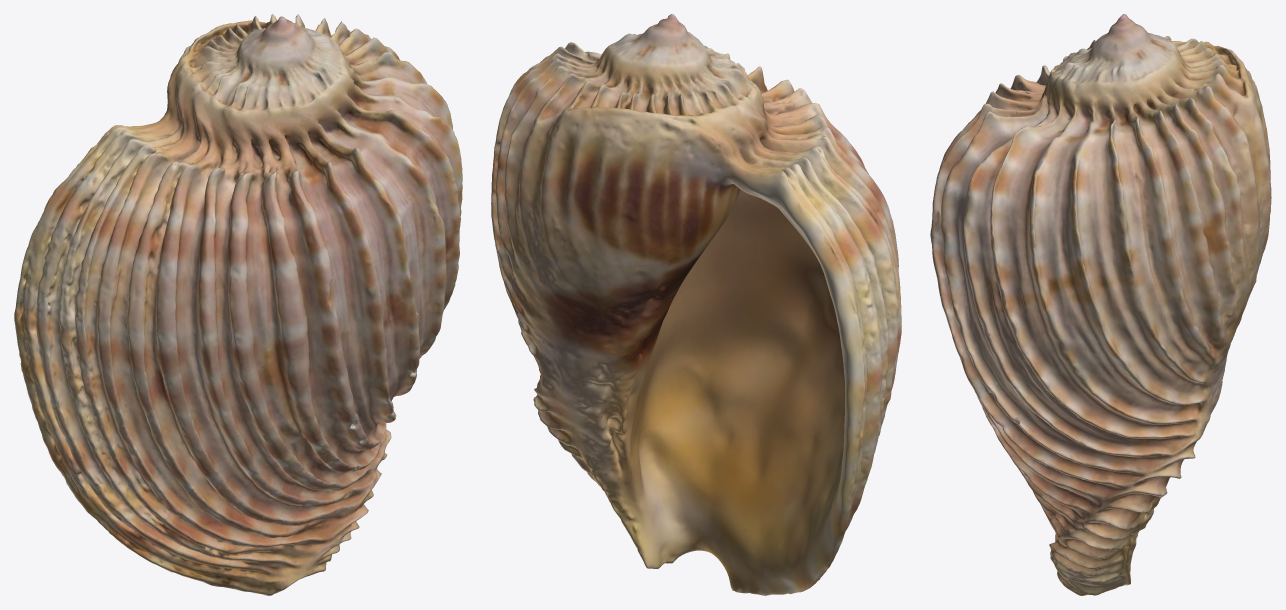
3 views of the same model, side by side, from view 1: azimuth 30°, elevation 25°; view 2: azimuth 150°, elevation 25°; view 3: azimuth 270°, elevation 25° (orthographic). The views are drawn at different scales.
Parts seen in each view (by area): view 1: Harpa_costata-unwrapped-webmulti; view 2: Harpa_costata-unwrapped-webmulti; view 3: Harpa_costata-unwrapped-webmulti.
Boxes of the visible parts, x1=… form: Harpa_costata-unwrapped-webmulti: x1=14, y1=14, x2=462, y2=595; Harpa_costata-unwrapped-webmulti: x1=491, y1=14, x2=901, y2=595; Harpa_costata-unwrapped-webmulti: x1=930, y1=14, x2=1271, y2=595.
Size of the model in its own units: 3530 by 4915 by 2605.
Materials: 1 (1 with a texture image).
